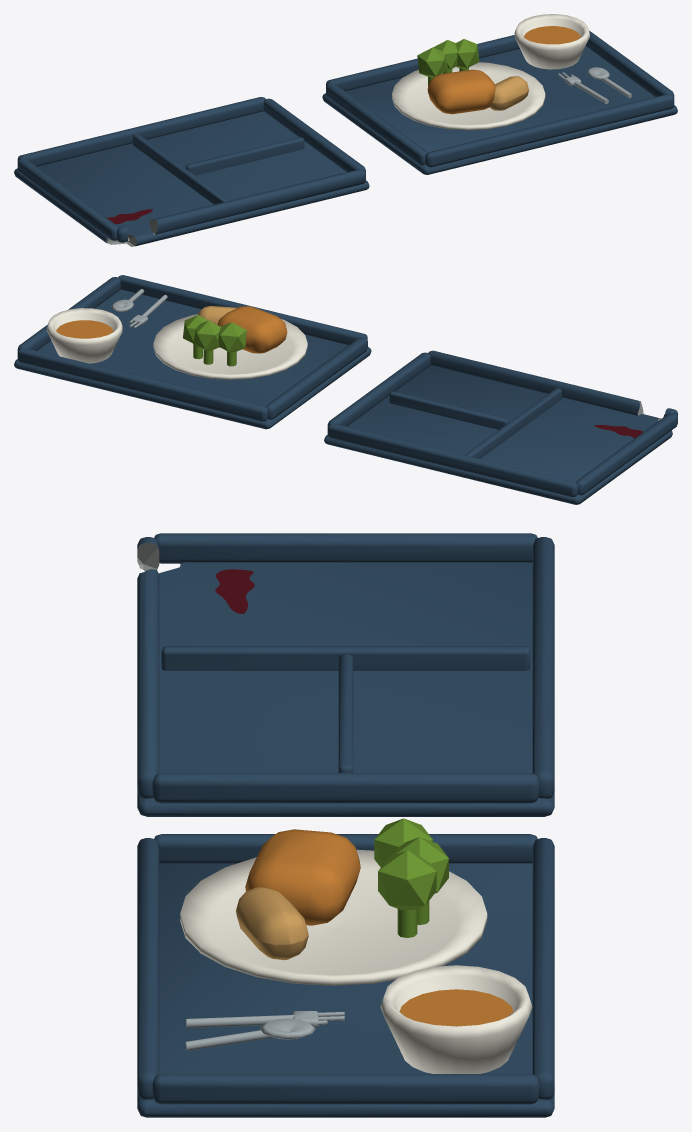
Rendered from cafeteria_meal_tray_set.glb.
3 renders of one model, top to bottom at view 1: azimuth 30°, elevation 25°; view 2: azimuth 150°, elevation 25°; view 3: azimuth 270°, elevation 25°, orthographic. The views are drawn at different scales.
Parts seen in each view (by area): view 1: Meal_Tray_Mesh, Empty_Tray_Mesh; view 2: Meal_Tray_Mesh, Empty_Tray_Mesh; view 3: Meal_Tray_Mesh, Empty_Tray_Mesh.
Boxes of the visible parts, x1=… form: Meal_Tray_Mesh: x1=322, y1=14, x2=677, y2=174; Empty_Tray_Mesh: x1=14, y1=97, x2=369, y2=246; Meal_Tray_Mesh: x1=14, y1=275, x2=371, y2=429; Empty_Tray_Mesh: x1=324, y1=350, x2=677, y2=504; Meal_Tray_Mesh: x1=137, y1=818, x2=554, y2=1117; Empty_Tray_Mesh: x1=137, y1=533, x2=554, y2=816.
Bounding box in the file's own units: 1.06 × 0.114 × 0.34.
